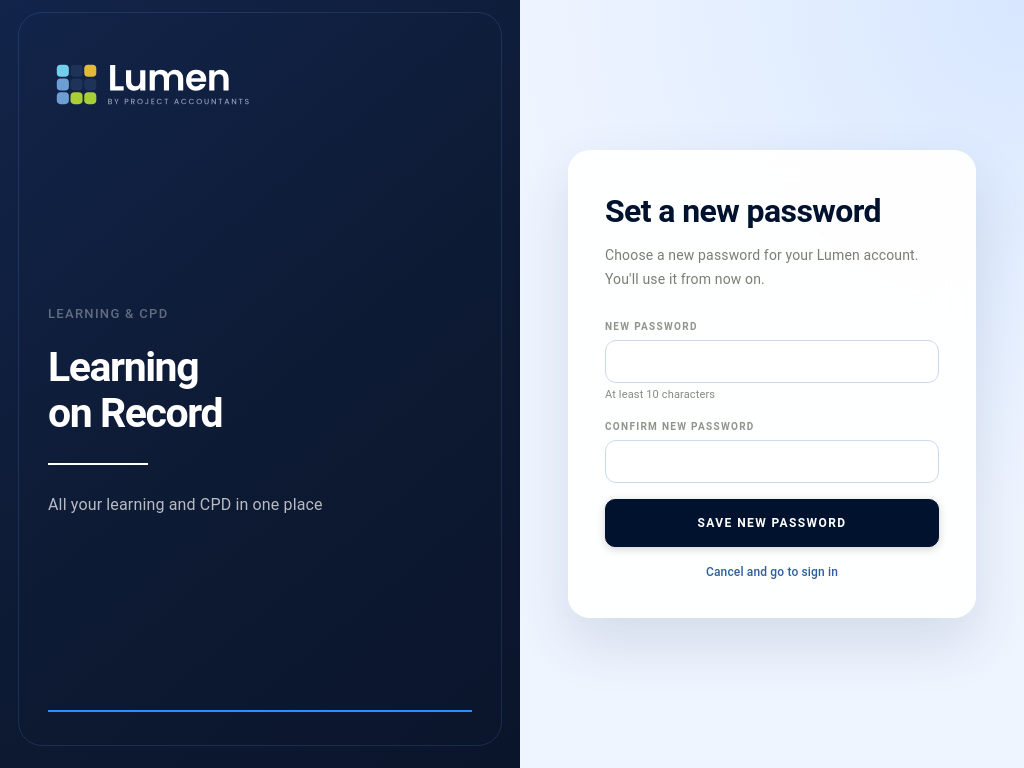
Test case: Set a new password (from a reset link) › requires 10+ characters typed the same twice
The image size is (1024, 768).
Type "short" into the password field labelled "New password" at [772, 361], box [605,340,939,383]
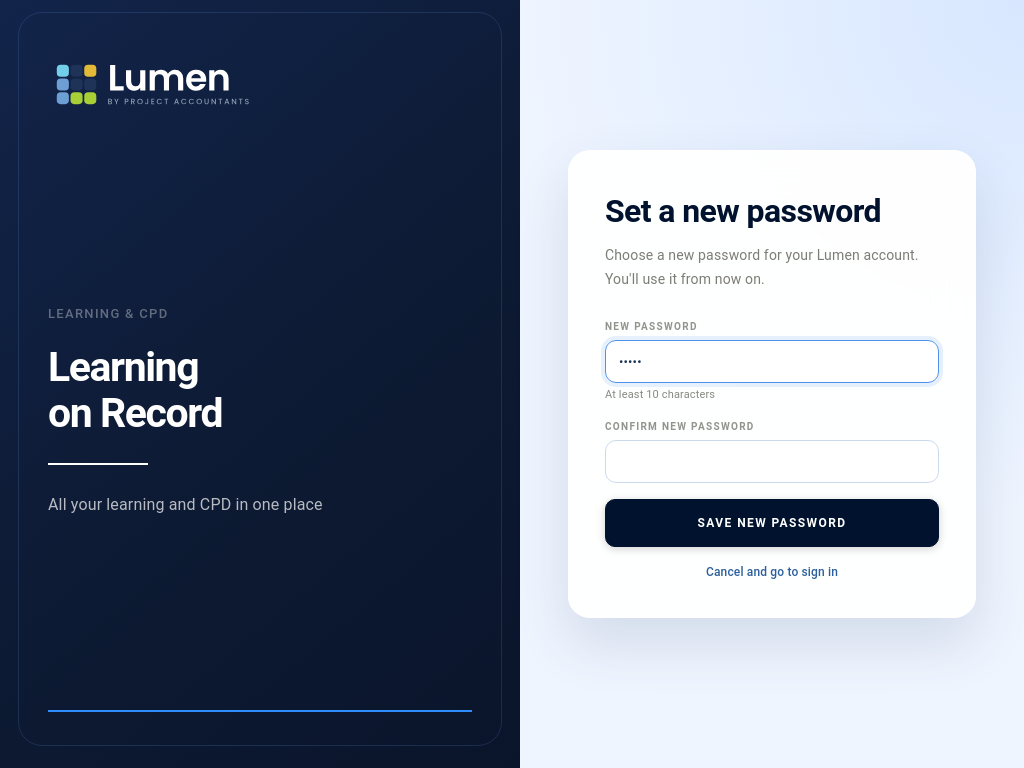
Type "different" into the password field labelled "Confirm new password" at [772, 462], box [605,440,939,483]
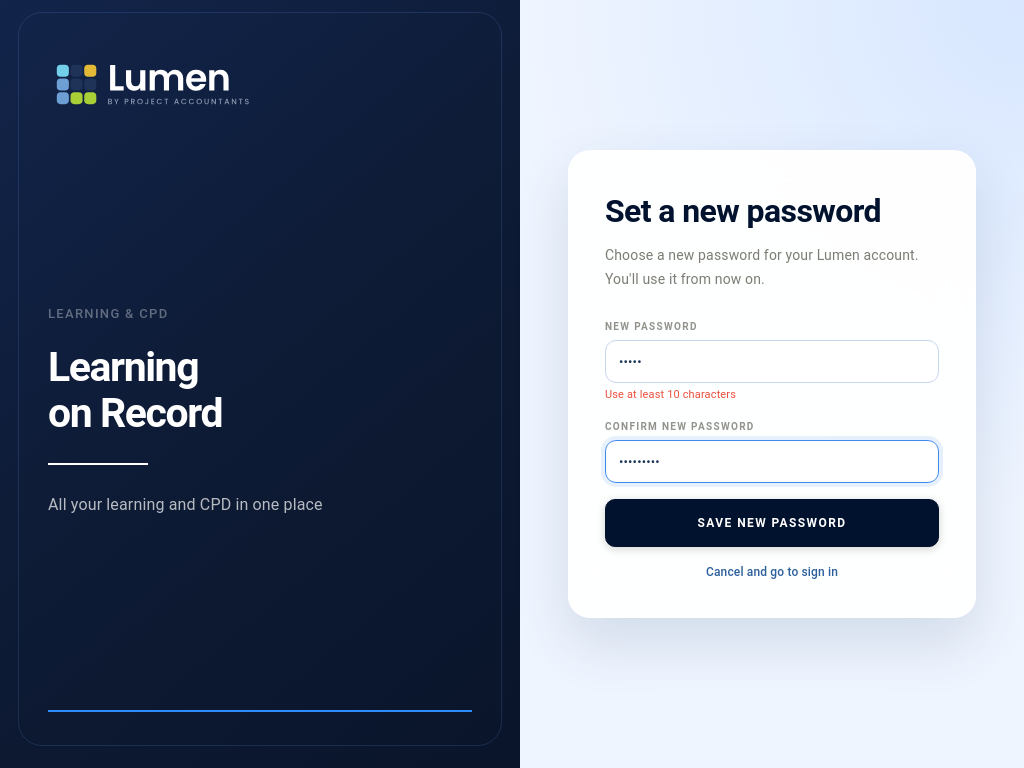
Click the button "Save new password" at [772, 523], box [605,499,939,547]
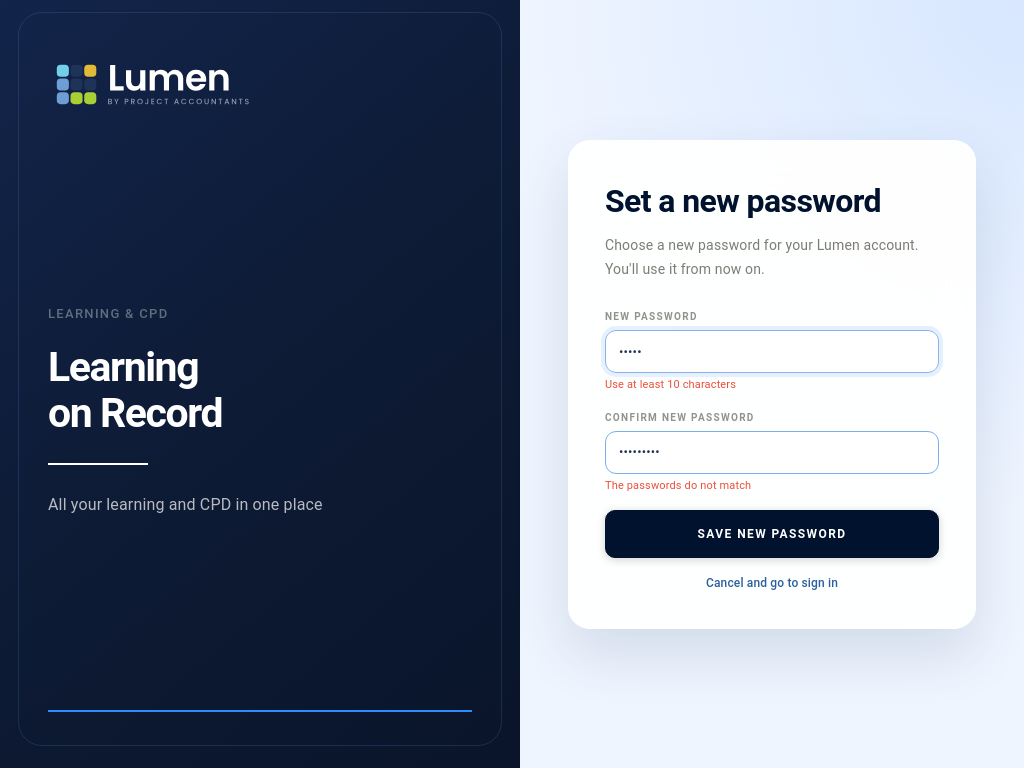
Expected: the text "Use at least 10 characters" is shown, [605,378,736,390]
Expected: the text "The passwords do not match" is shown, [605,478,751,491]
